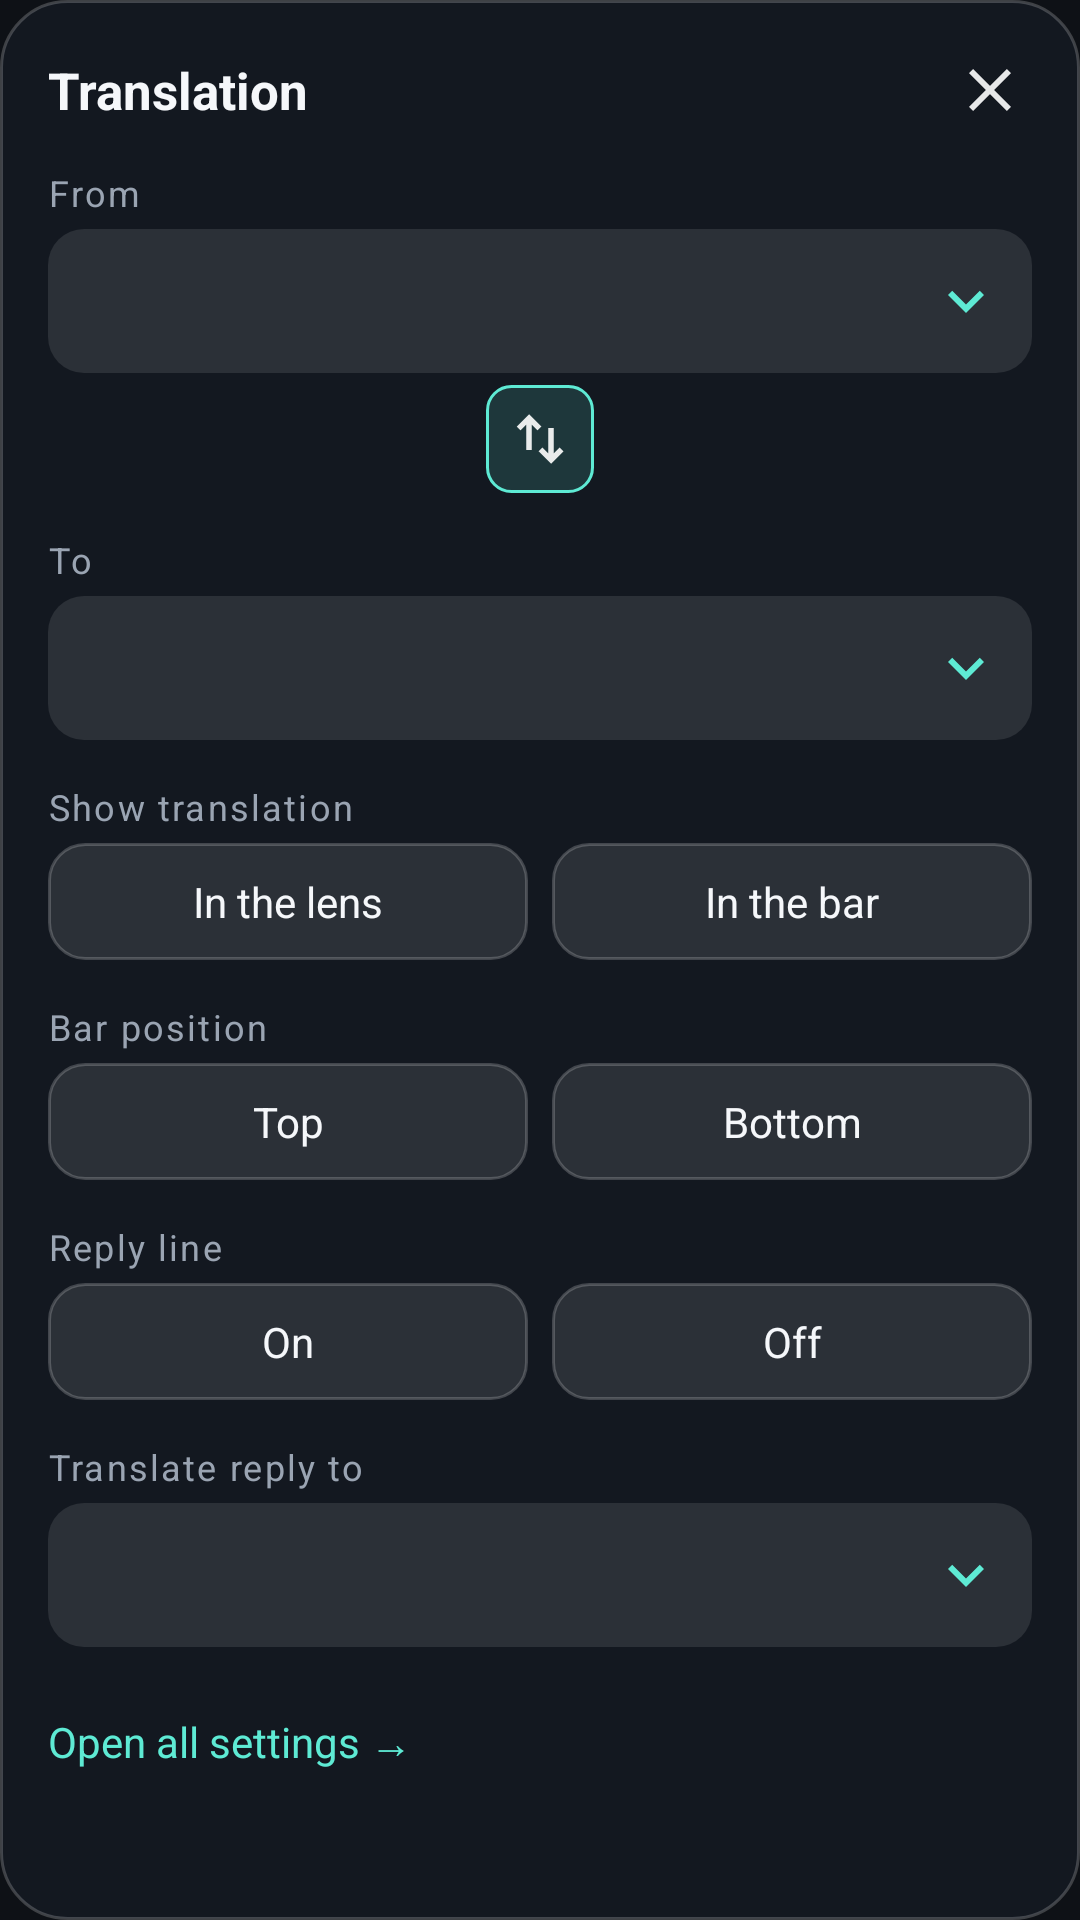

Named icons in this screenshot (1080px×1920px) and their centers, (x=x, y=y):
Close: (x=990, y=90)
Swap languages: (x=540, y=439)
